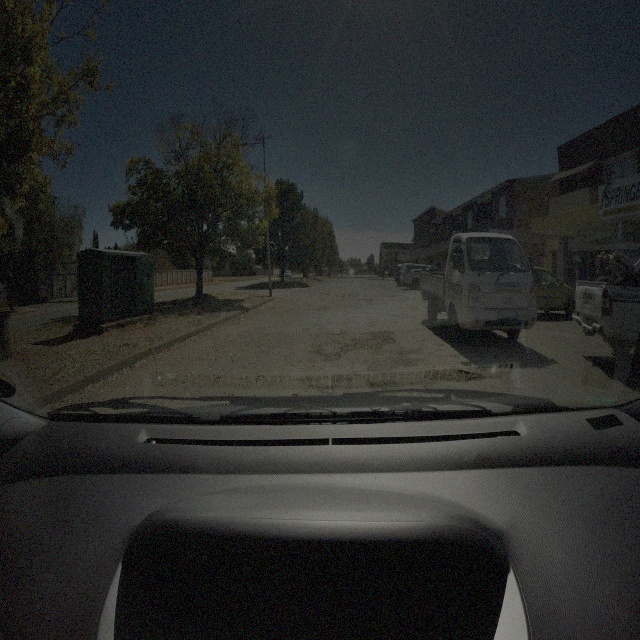pothole: (425, 364, 489, 385), (353, 331, 398, 354)
